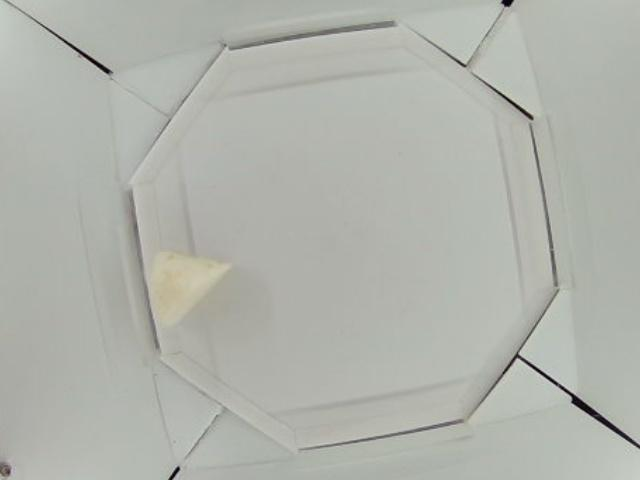Mooli: (155, 248, 228, 328)
